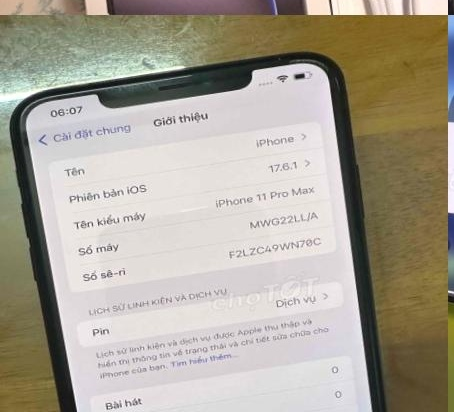scratch: (93, 57, 238, 109)
